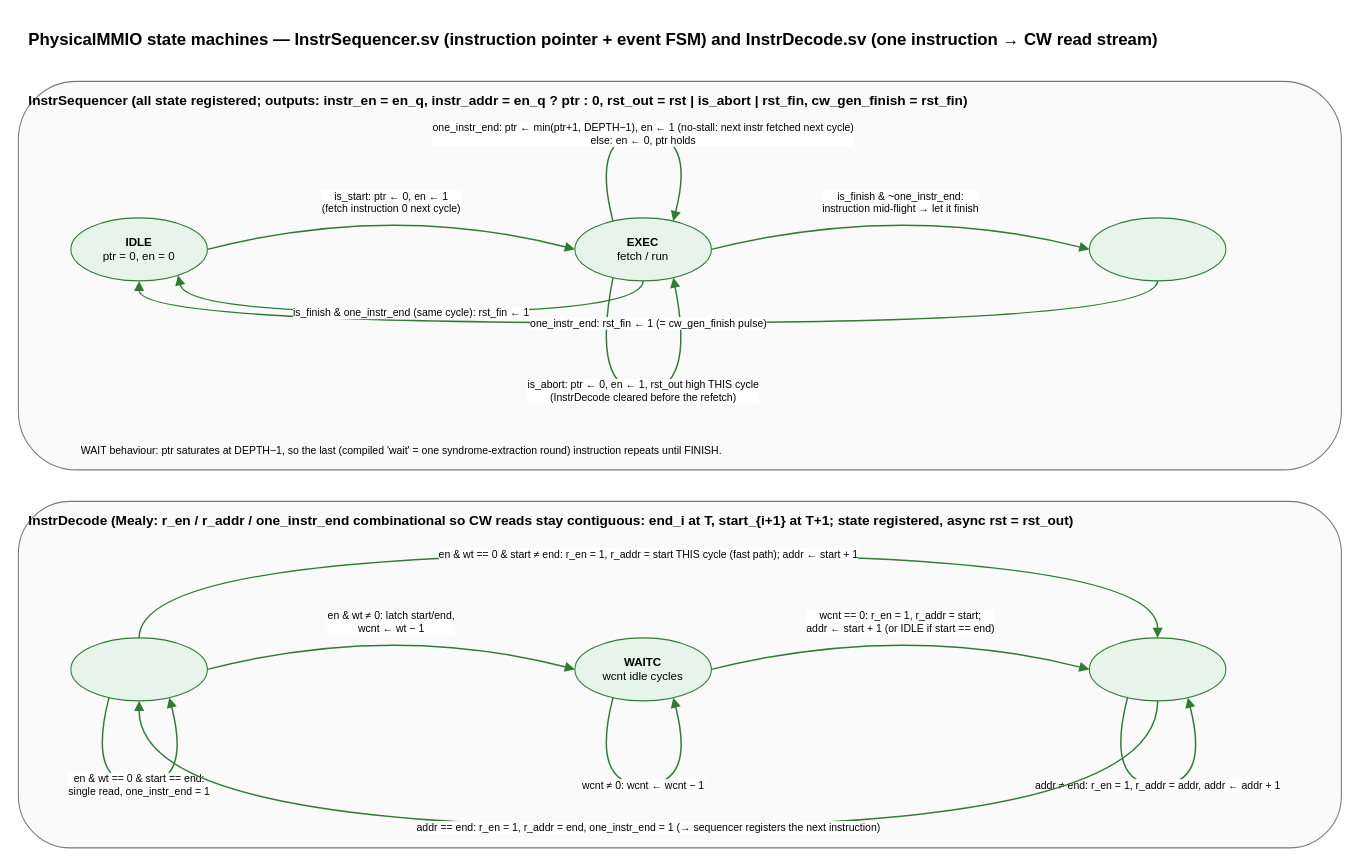
Image size: 1360x866. Some labels were removed from this diagram. The shapes that lost their labels are listed below. From the top down, each one's centre as x and y in pixels, then its label:
At (1157,249): "DRAIN no new fetch".
At (138,669): "IDLE".
At (1157,669): "STREAM r_addr walks".
